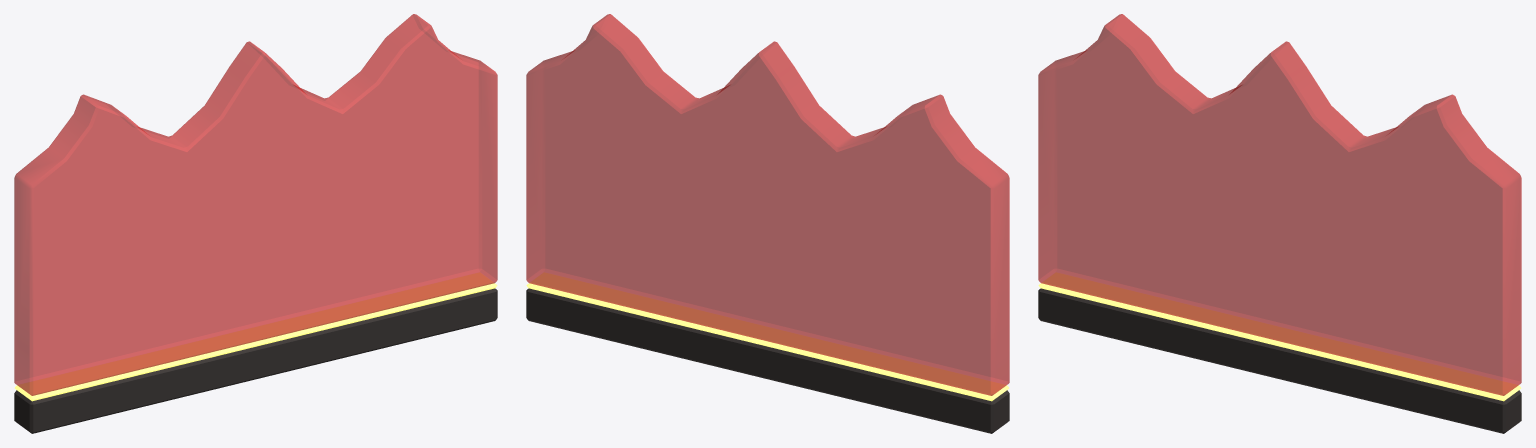
Rendered from rabatoire_top_droite_Modele.fbx.
3 renders of one model, left to right at view 1: azimuth 30°, elevation 25°; view 2: azimuth 150°, elevation 25°; view 3: azimuth 330°, elevation 25°, orthographic.
Parts seen in each view (by area): view 1: rabatoire_top_droite_Modele; view 2: rabatoire_top_droite_Modele; view 3: rabatoire_top_droite_Modele.
Part boxes in pixels (x1=…): rabatoire_top_droite_Modele: x1=14, y1=14, x2=497, y2=433; rabatoire_top_droite_Modele: x1=526, y1=14, x2=1009, y2=433; rabatoire_top_droite_Modele: x1=1038, y1=14, x2=1521, y2=433.
Size of the model in its own units: 1.5 by 0.9944 by 0.1.
